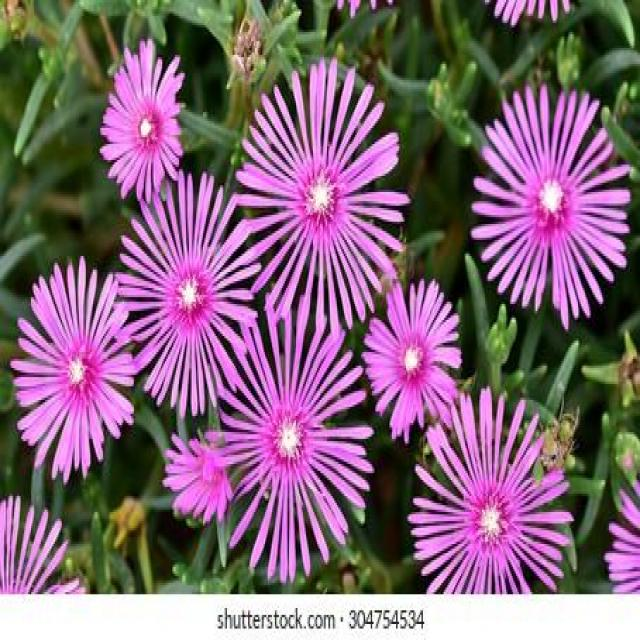organic waste: (205, 303, 379, 575), (237, 57, 407, 325), (470, 82, 630, 316), (110, 180, 266, 403), (414, 392, 569, 582), (14, 260, 134, 468), (368, 285, 467, 433), (96, 49, 186, 202), (160, 436, 236, 532)
